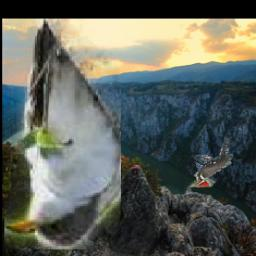Cuckoo: (5, 19, 122, 250)
Woodpecker: (187, 137, 233, 187)
